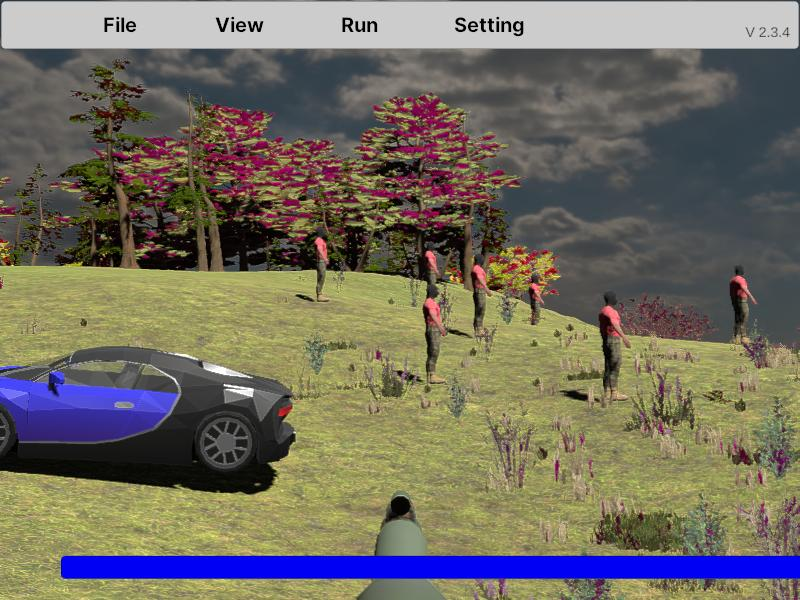Human: (600, 290, 631, 405), (424, 282, 447, 386), (730, 263, 756, 347), (472, 251, 492, 339), (314, 225, 330, 302), (423, 241, 440, 308), (424, 240, 440, 305), (528, 272, 543, 327)
car: (0, 346, 295, 478)
